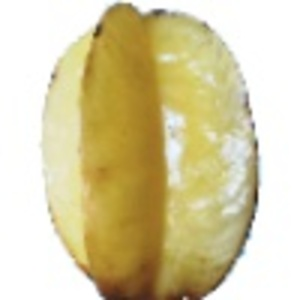carambola: (40, 1, 264, 300)
